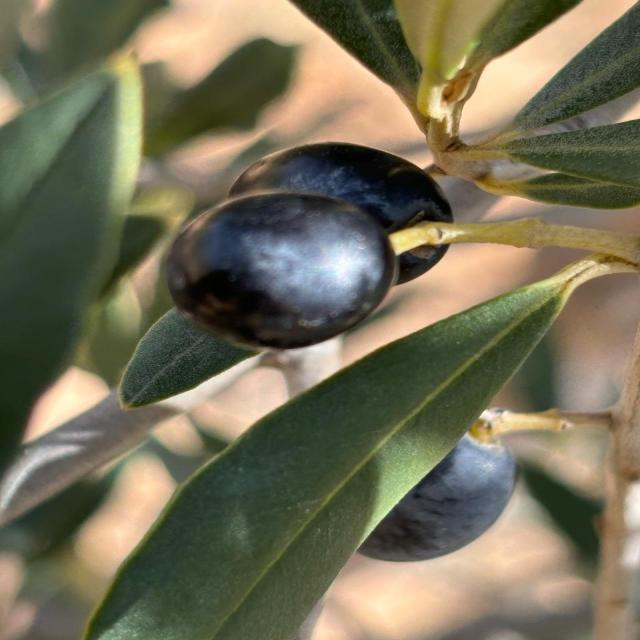Healthy: (87, 264, 586, 640), (163, 142, 453, 351)
